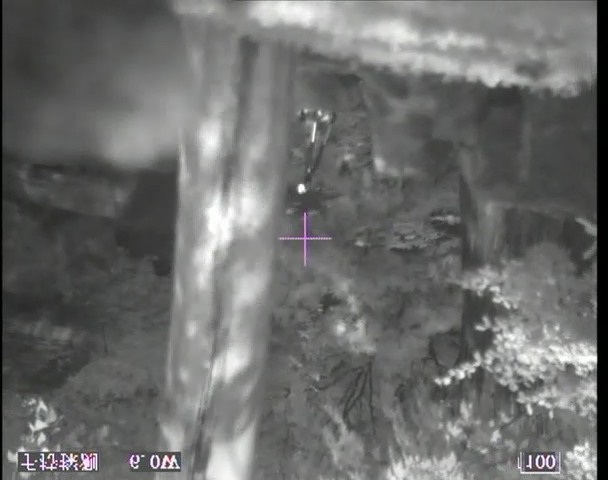my: (295, 182, 306, 194)
